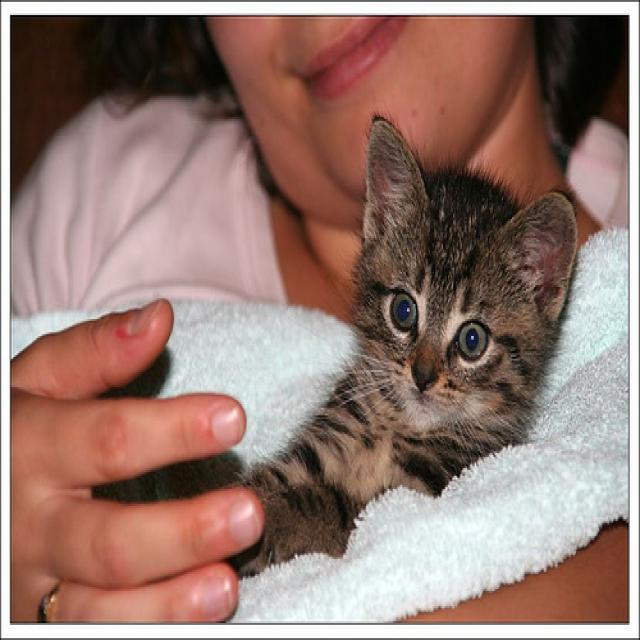cat: (317, 142, 572, 492)
